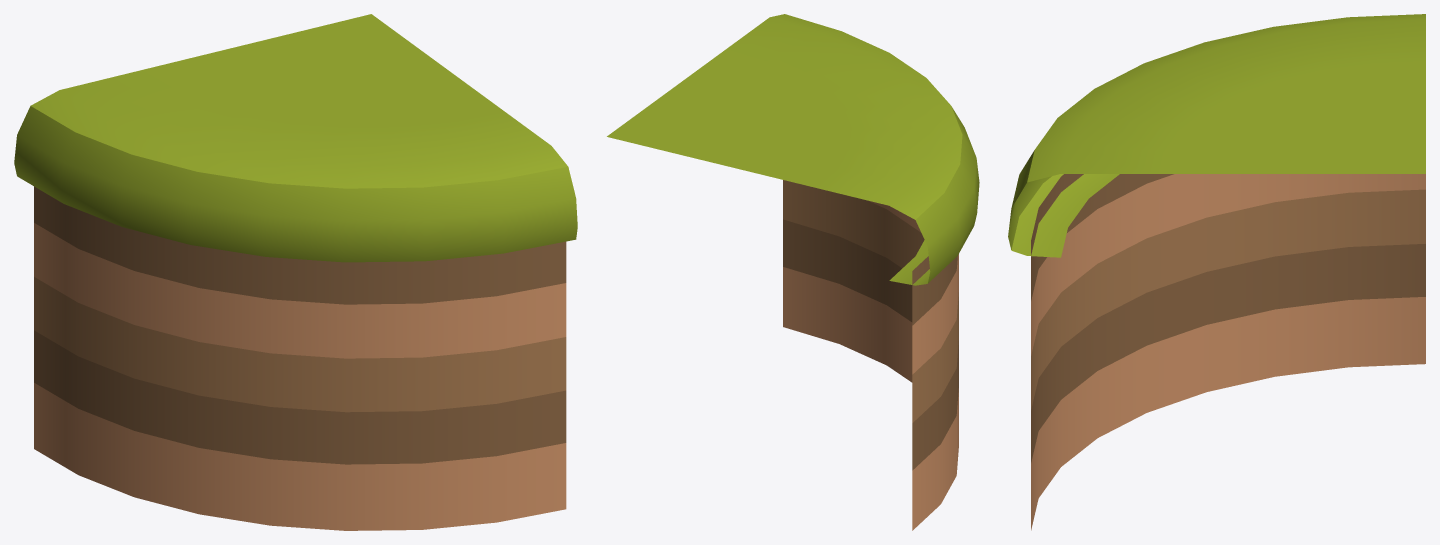
File: platform_grass_corner_round_tall.gltf
3 renders of one model, left to right at view 1: azimuth 30°, elevation 25°; view 2: azimuth 150°, elevation 25°; view 3: azimuth 270°, elevation 25°, orthographic. The views are drawn at different scales.
Visible parts, largest first — view 1: Cube_Grass_Corner_Round_Tall; view 2: Cube_Grass_Corner_Round_Tall; view 3: Cube_Grass_Corner_Round_Tall.
Part boxes in pixels (bbox=[...]): Cube_Grass_Corner_Round_Tall: bbox=[14, 14, 577, 530]; Cube_Grass_Corner_Round_Tall: bbox=[607, 14, 979, 530]; Cube_Grass_Corner_Round_Tall: bbox=[1008, 14, 1425, 530].
Size of the model in its own units: 2.12 by 2 by 2.12.
